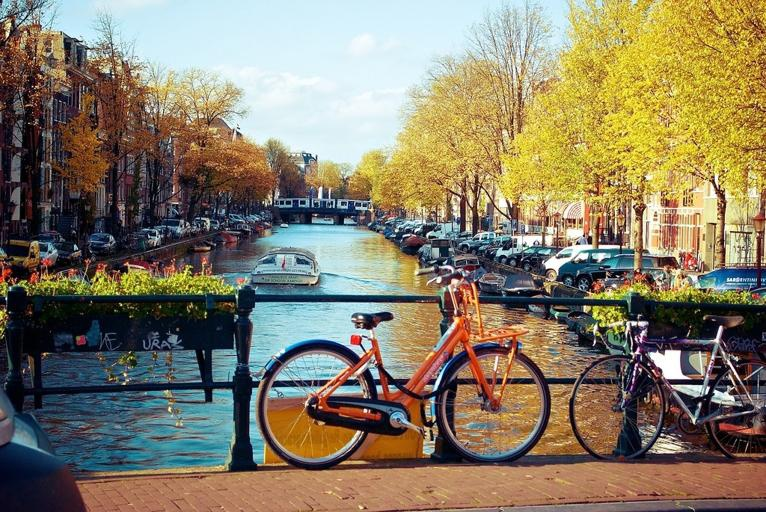non-vehicle: (249, 265, 551, 470), (568, 312, 765, 461)
